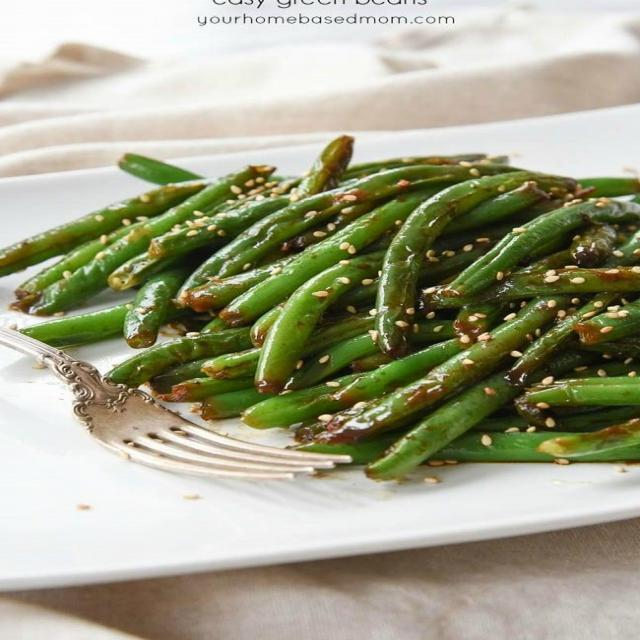Beans: (0, 137, 639, 501)
